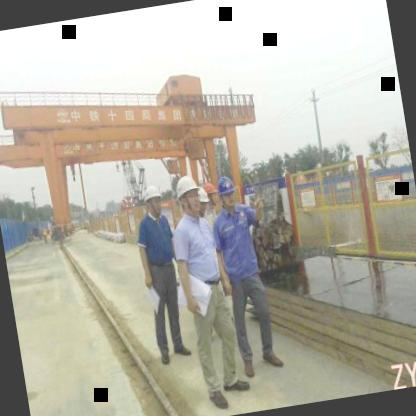helmet: (174, 172, 204, 219), (138, 178, 166, 221), (215, 170, 240, 208), (200, 178, 220, 210)
